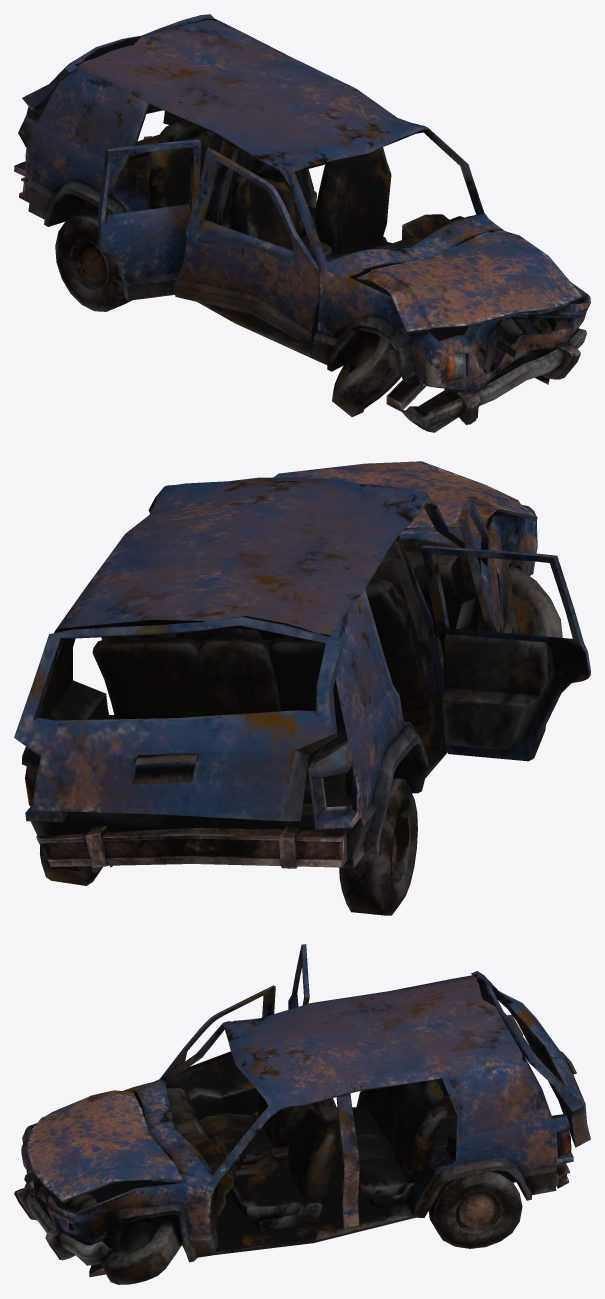
Rendered from wreck_car_crashed.glb.
The picture shows the model from 3 angles, top to bottom: view 1: azimuth 30°, elevation 25°; view 2: azimuth 150°, elevation 25°; view 3: azimuth 270°, elevation 25°; orthographic projection. The views are drawn at different scales.
Visible parts, largest first — view 1: Object_6, Object_4, Object_10, Object_12, Object_8, Object_18, Object_16, Object_14; view 2: Object_6, Object_14, Object_12, Object_4, Object_18, Object_10, Object_16, Object_20; view 3: Object_6, Object_4, Object_20, Object_10, Object_14, Object_22, Object_8, Object_12.
Part boxes in pixels (x1,y1,x2,y2): Object_6: (14, 19, 590, 411); Object_4: (355, 230, 582, 334); Object_10: (173, 147, 319, 348); Object_12: (97, 139, 201, 300); Object_8: (400, 328, 586, 432); Object_18: (55, 208, 131, 311); Object_16: (332, 333, 401, 416); Object_14: (18, 14, 214, 147); Object_6: (22, 477, 537, 868); Object_14: (14, 616, 344, 821); Object_12: (420, 545, 590, 761); Object_4: (273, 461, 537, 533); Object_18: (339, 778, 417, 915); Object_10: (455, 503, 502, 632); Object_16: (509, 566, 562, 637); Object_20: (39, 845, 102, 885); Object_6: (21, 974, 573, 1277); Object_4: (26, 1090, 184, 1203); Object_20: (428, 1170, 522, 1248); Object_10: (160, 985, 275, 1119); Object_14: (471, 971, 590, 1147); Object_22: (101, 1218, 181, 1284); Object_8: (14, 1183, 113, 1265); Object_12: (288, 944, 309, 1009).
Size of the model in its own units: 2.96 by 1.68 by 4.4.
1 material, 1 textured.
